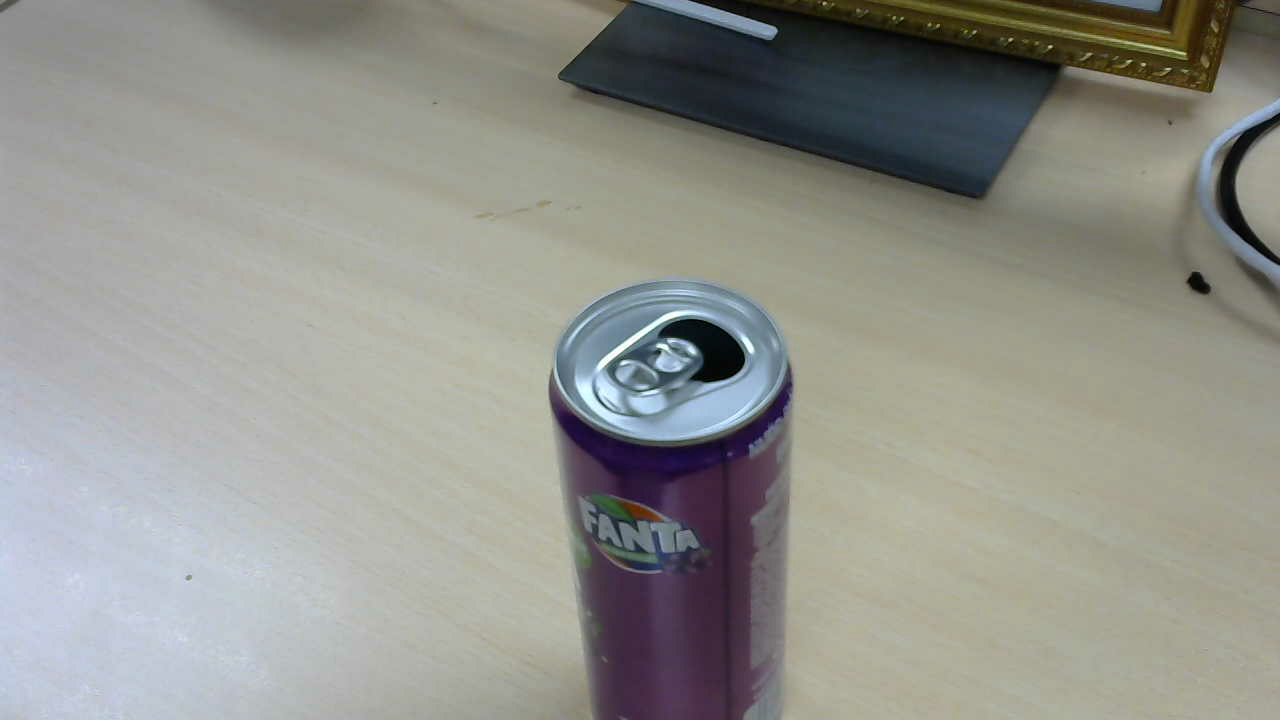Fanta: (554, 282, 800, 697)
